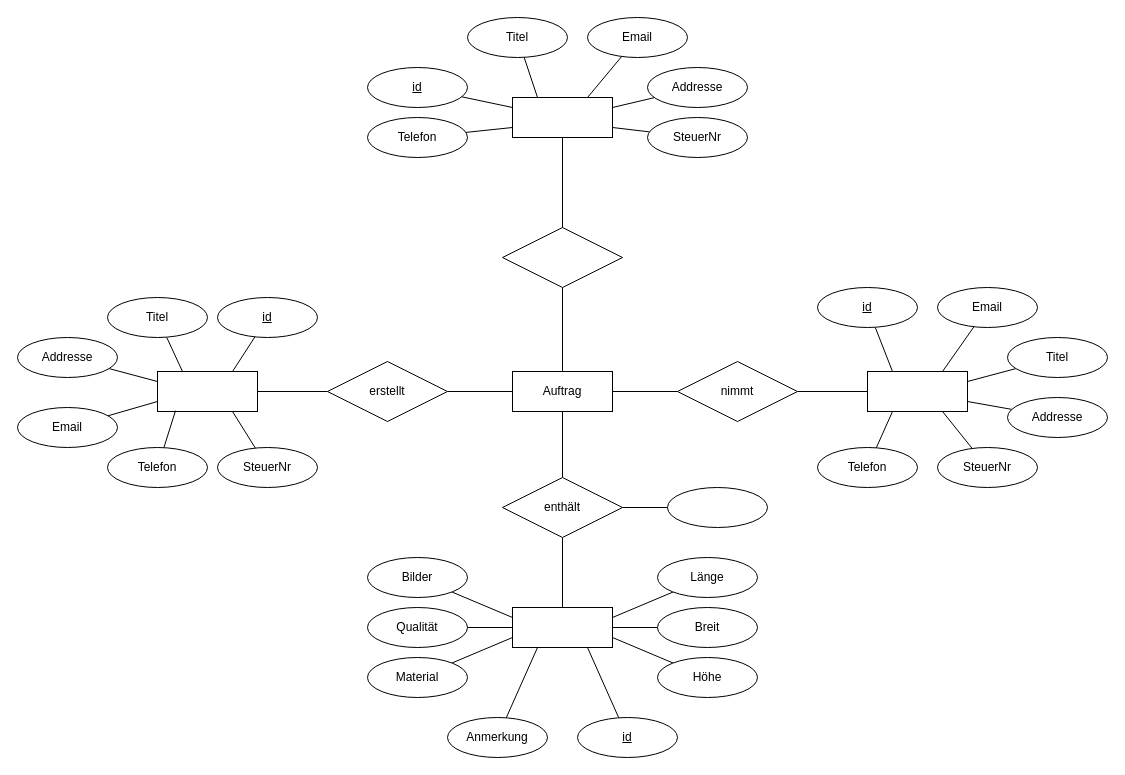
The diagram is 1125 pixels wide and 775 high, and some of its shapes have lost their labels. Each missing label, with the centre of its shape:
"Hersteller" belongs at (x=917, y=391).
"Kunde" belongs at (x=207, y=391).
"liefert" belongs at (x=562, y=257).
"Menge" belongs at (x=717, y=507).
"Palette" belongs at (x=562, y=627).
"Spedition" belongs at (x=562, y=117).
